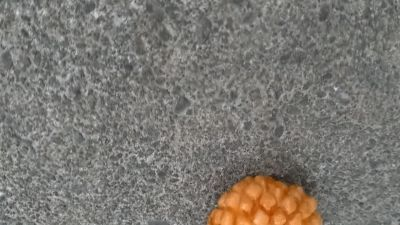eggs: (205, 175, 322, 225)
